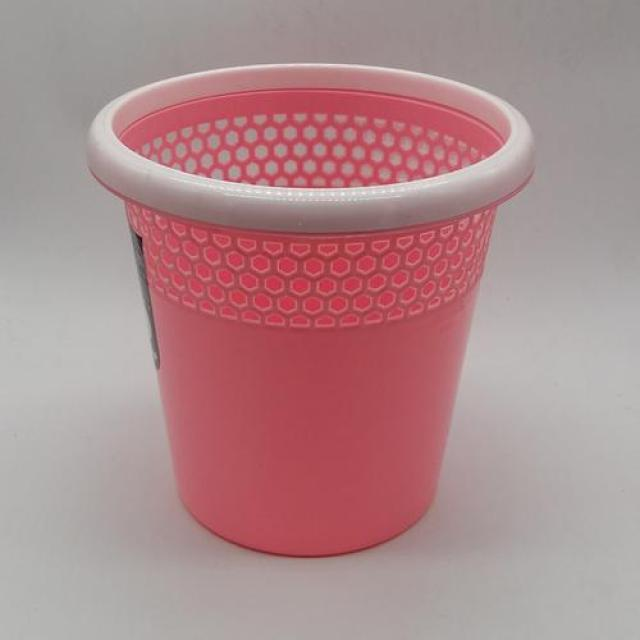dustbin: (81, 53, 542, 567)
